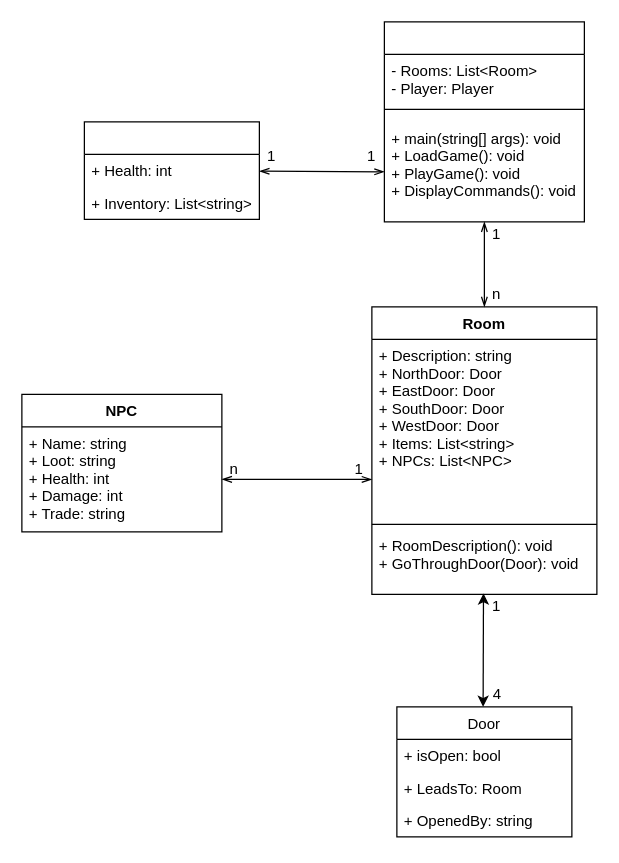
The diagram is 619 pixels wide and 863 high, and some of its shapes have lost their labels. Here are the shapes that lost their labels. From the top down, the box of each, then its label:
(383, 21, 584, 222): TextAdventure
(83, 121, 259, 219): Player
